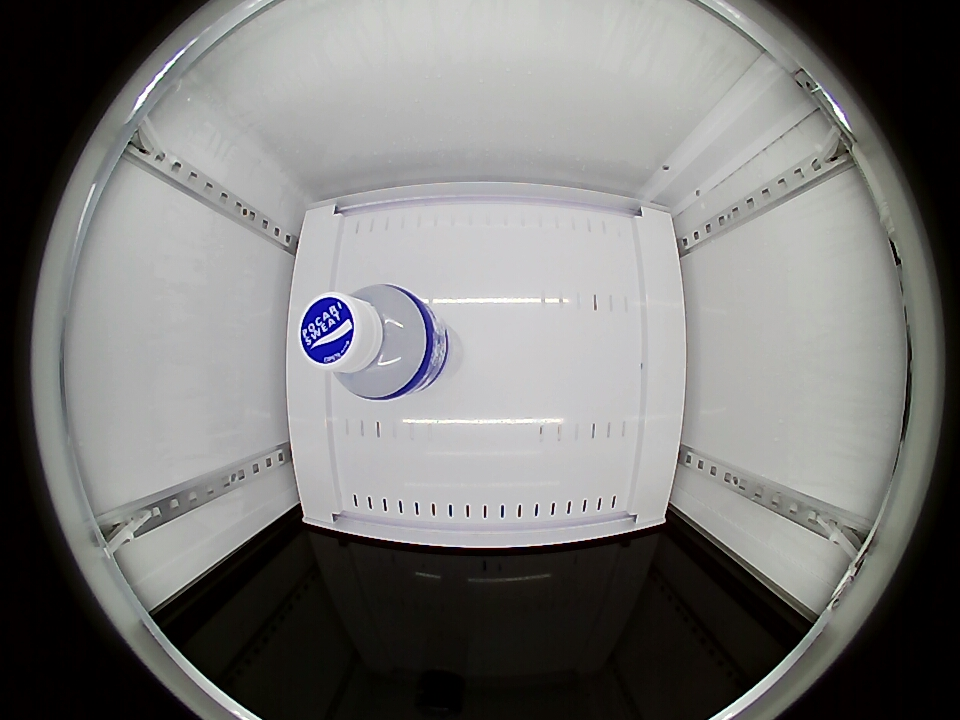baokuangli: (300, 285, 438, 401)
